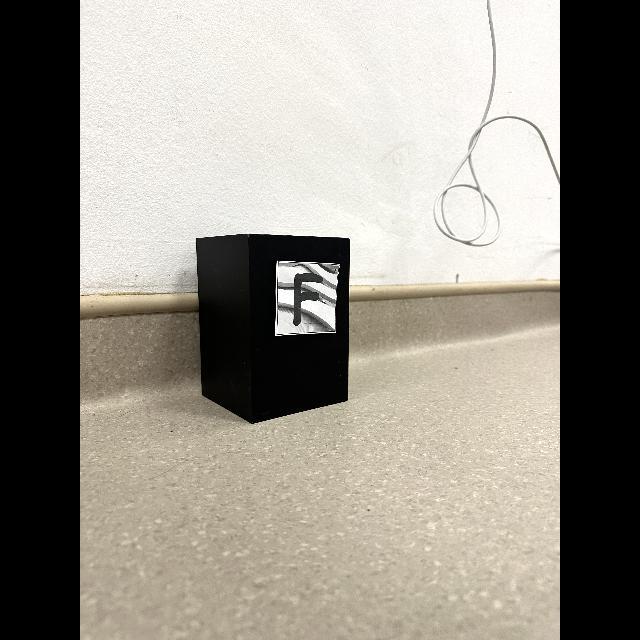F: (293, 273, 324, 325)
